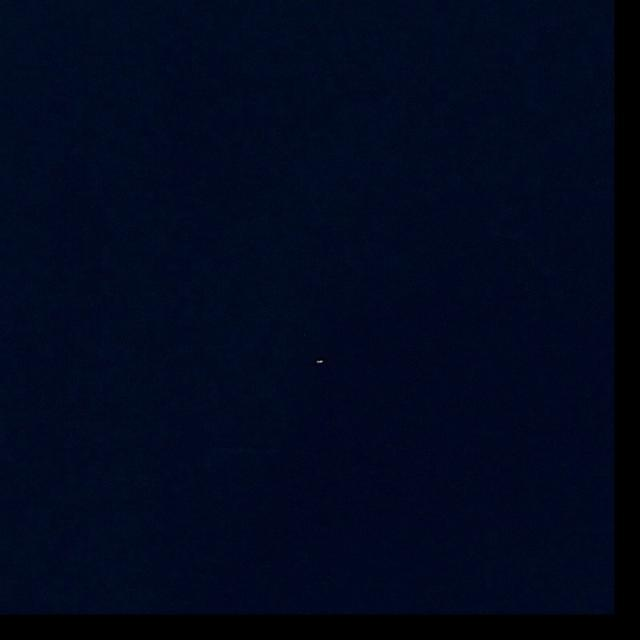ship: (316, 359, 323, 364)
